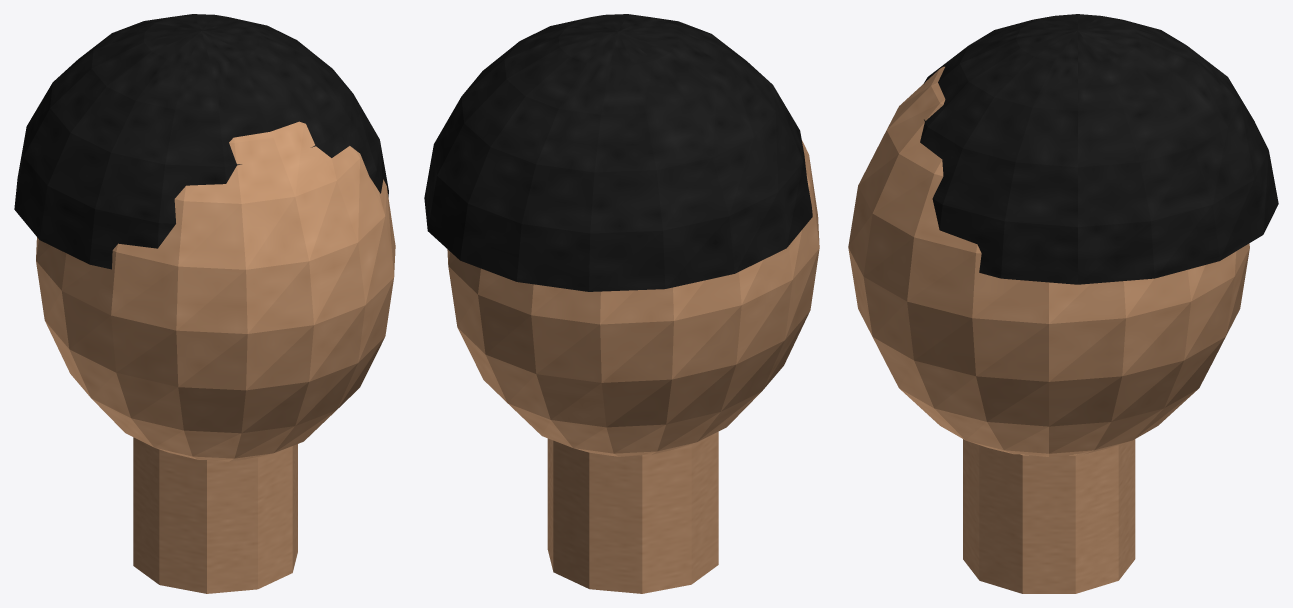
The model's file is JugB_Cabeza.obj.
3 renders of one model, left to right at view 1: azimuth 30°, elevation 25°; view 2: azimuth 150°, elevation 25°; view 3: azimuth 270°, elevation 25°, orthographic. The views are drawn at different scales.
Bounding box in the file's own units: 0.2 × 0.305 × 0.225.
1 material, 1 textured.
